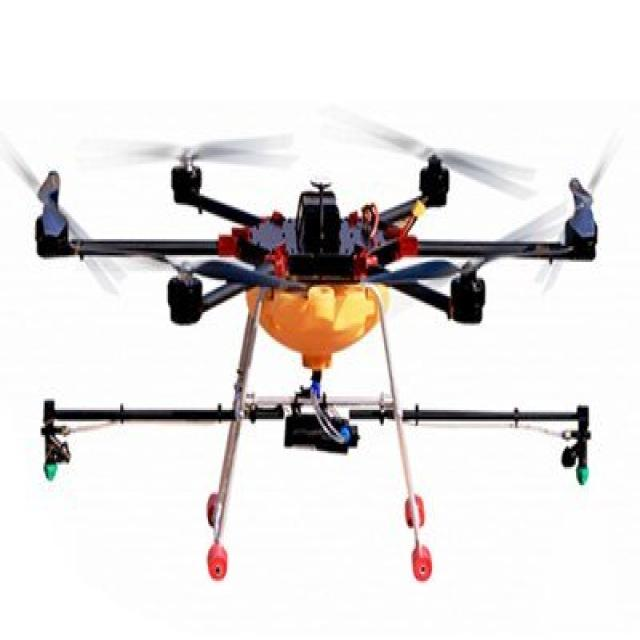drone: (0, 41, 640, 570)
